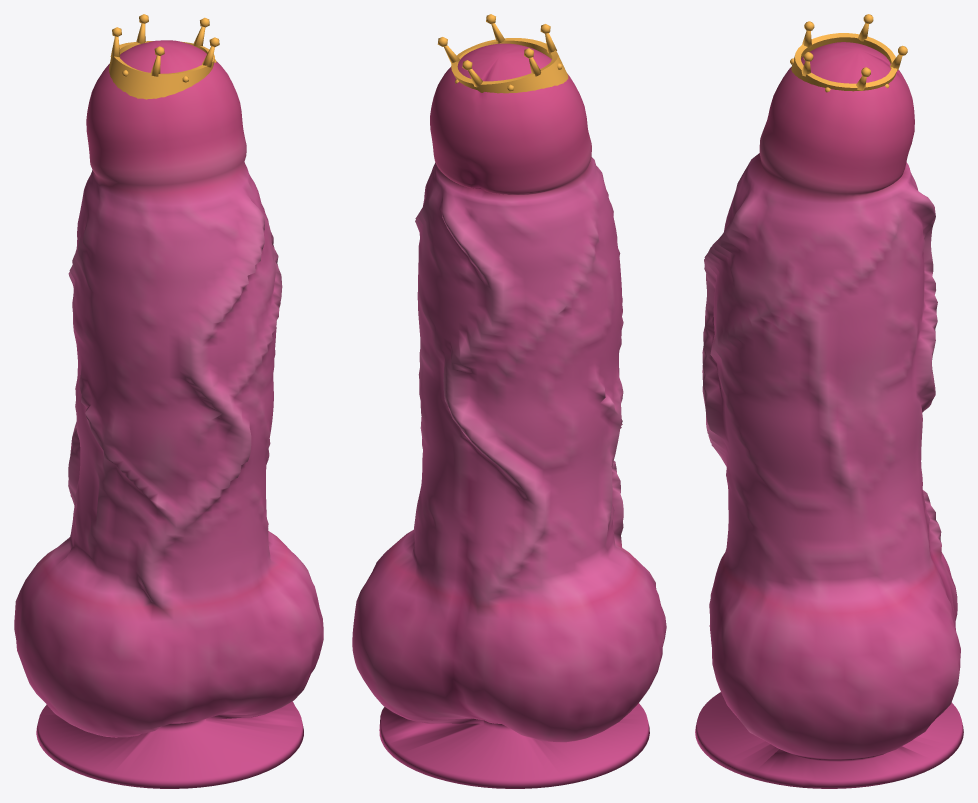
File: king.glb
3 views of the same model, side by side, from view 1: azimuth 30°, elevation 25°; view 2: azimuth 150°, elevation 25°; view 3: azimuth 270°, elevation 25° (orthographic).
Parts seen in each view (by area): view 1: king, crown; view 2: king, crown; view 3: king, crown.
Part boxes in pixels (x1,y1,x2,y2): king: [14, 40, 323, 788]; crown: [109, 14, 219, 99]; king: [352, 43, 666, 788]; crown: [437, 14, 568, 93]; king: [695, 42, 963, 788]; crown: [790, 14, 907, 92].
Bounding box in the file's own units: 0.5152 × 1.28 × 0.446.
